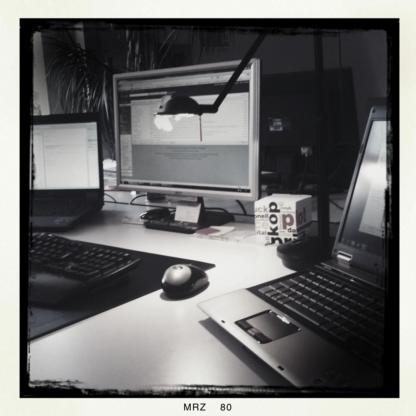board: (216, 125, 406, 397), (28, 112, 104, 227)
